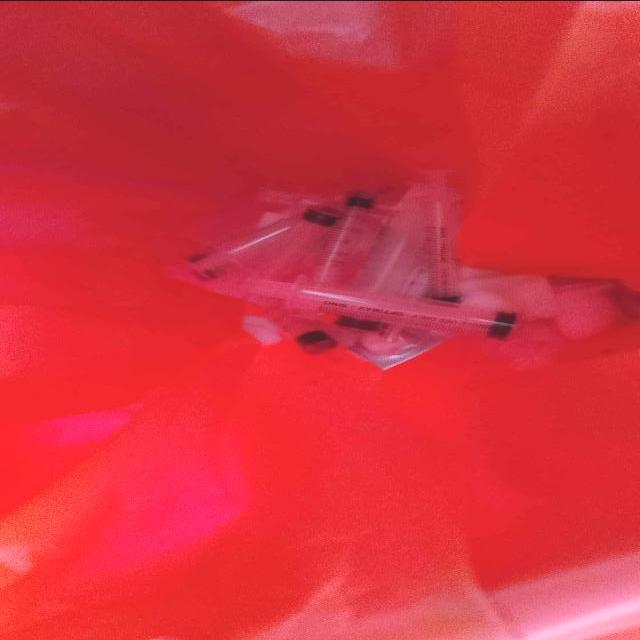General: (1, 3, 637, 638)
Pathological: (168, 173, 515, 373)
